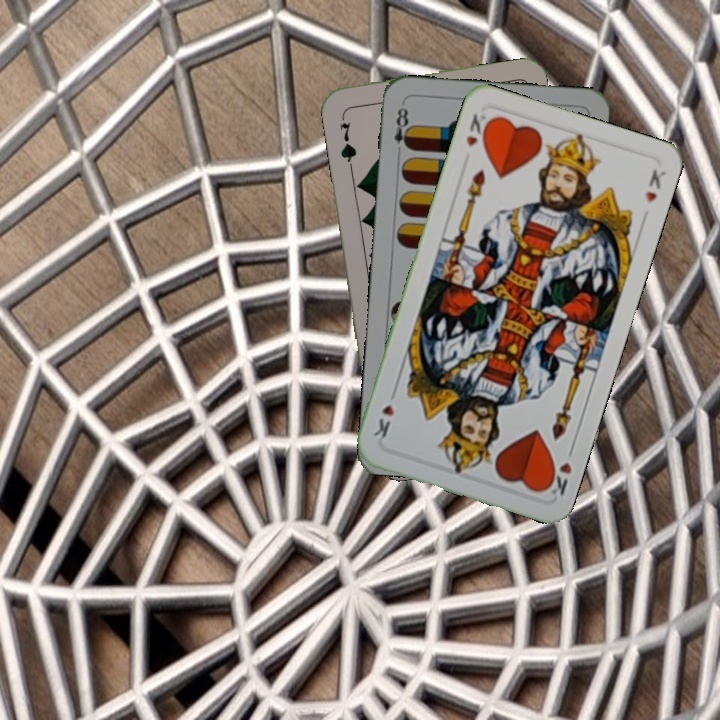E8: (390, 100, 414, 159)
G7: (335, 118, 359, 169)
HK: (540, 442, 577, 498), (462, 109, 493, 149)
